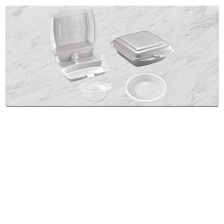foam_box: (45, 5, 110, 83), (105, 24, 177, 68), (122, 70, 170, 104), (74, 79, 114, 103)
